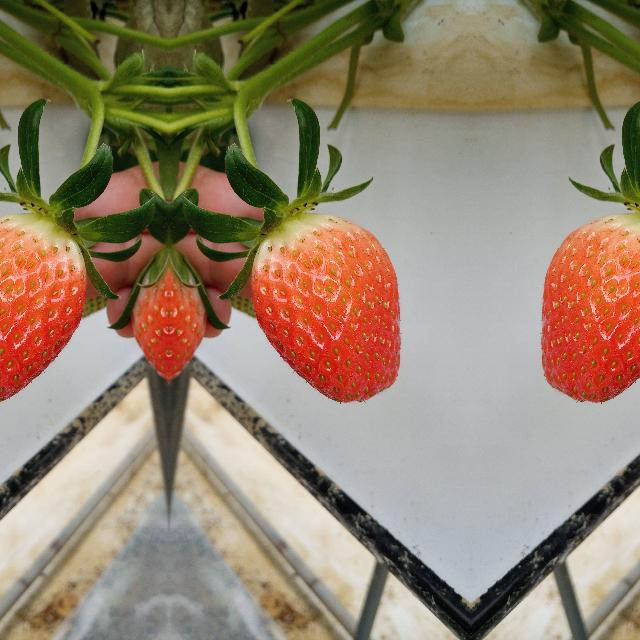Health_100: (249, 212, 401, 406), (540, 212, 640, 405), (0, 212, 87, 405)
